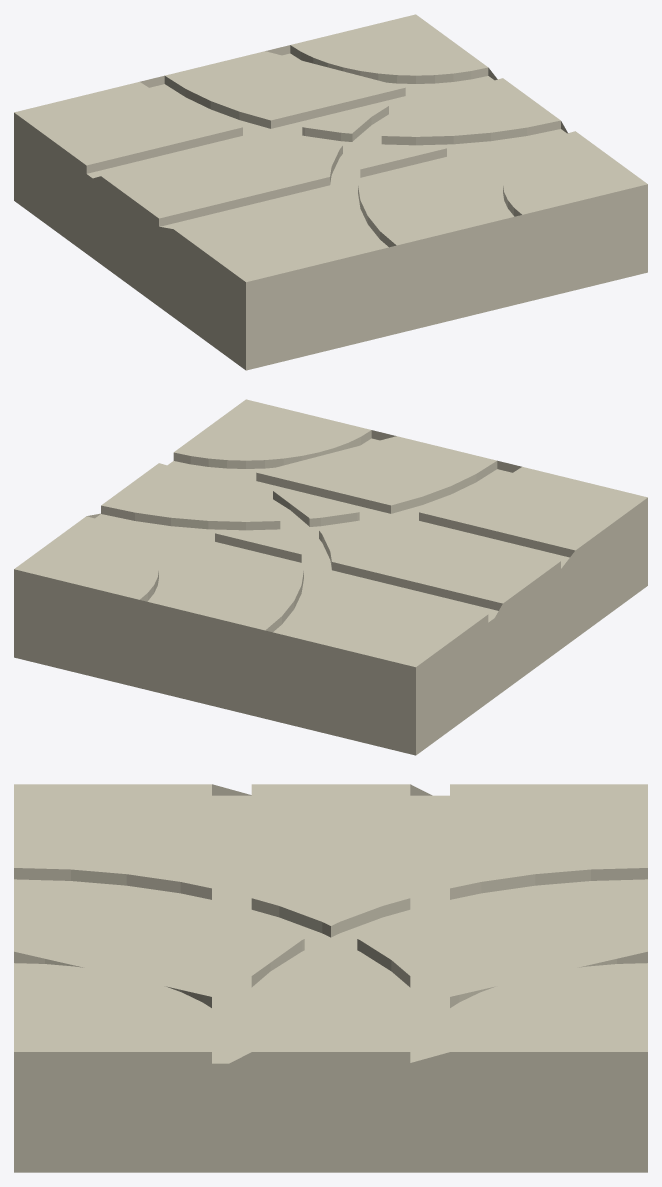
Rendered from roadtile_092.glb.
3 renders of one model, top to bottom at view 1: azimuth 30°, elevation 25°; view 2: azimuth 150°, elevation 25°; view 3: azimuth 270°, elevation 25°, orthographic. The views are drawn at different scales.
Visible parts, largest first — view 1: Mesh1 Group1 Model; view 2: Mesh1 Group1 Model; view 3: Mesh1 Group1 Model.
Part boxes in pixels (box(x1,y1,x2,y2)): Mesh1 Group1 Model: box(14, 14, 647, 370); Mesh1 Group1 Model: box(14, 399, 647, 755); Mesh1 Group1 Model: box(14, 784, 647, 1172).
Bounding box in the file's own units: 3 × 0.63 × 3.
